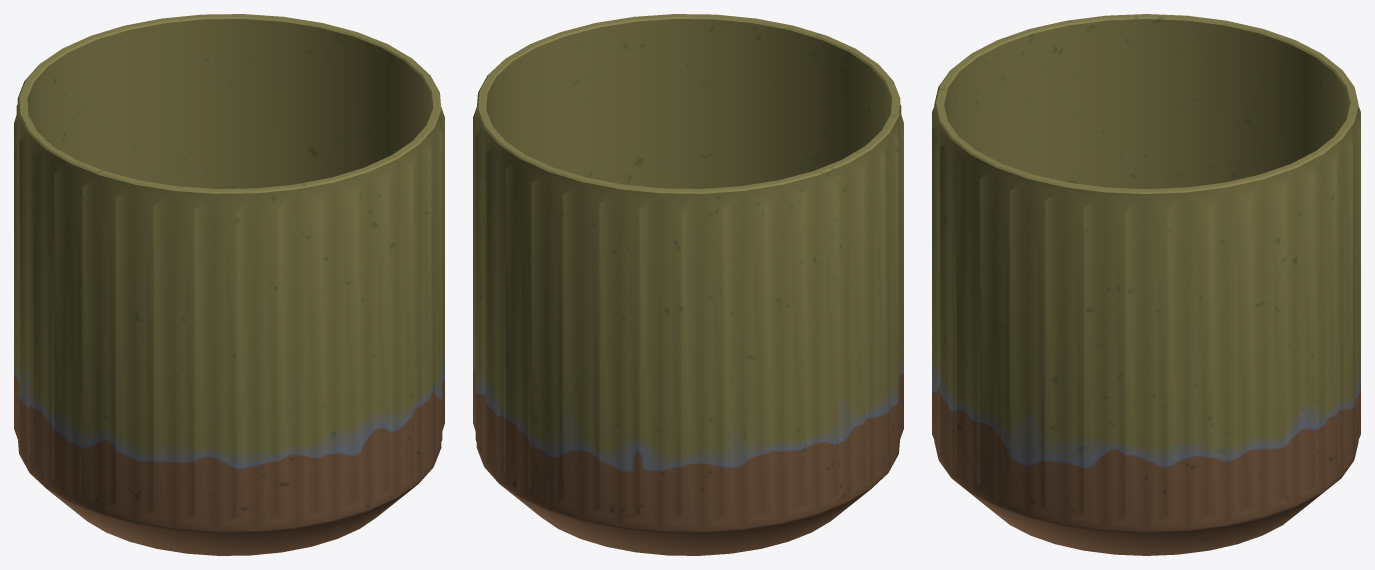
Rendered from pot.fbx.
3 views of the same model, side by side, from view 1: azimuth 30°, elevation 25°; view 2: azimuth 150°, elevation 25°; view 3: azimuth 270°, elevation 25° (orthographic).
Parts seen in each view (by area): view 1: Ceramic_pot; view 2: Ceramic_pot; view 3: Ceramic_pot.
Boxes of the visible parts, x1=… form: Ceramic_pot: x1=14, y1=14, x2=444, y2=555; Ceramic_pot: x1=473, y1=14, x2=903, y2=555; Ceramic_pot: x1=932, y1=14, x2=1360, y2=555.
Bounding box in the file's own units: 13.14 × 13.1 × 13.14.
Materials: 1 (1 with a texture image).
